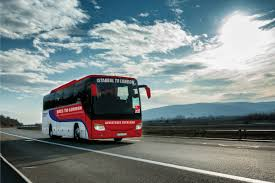bus: (41, 74, 151, 144)
